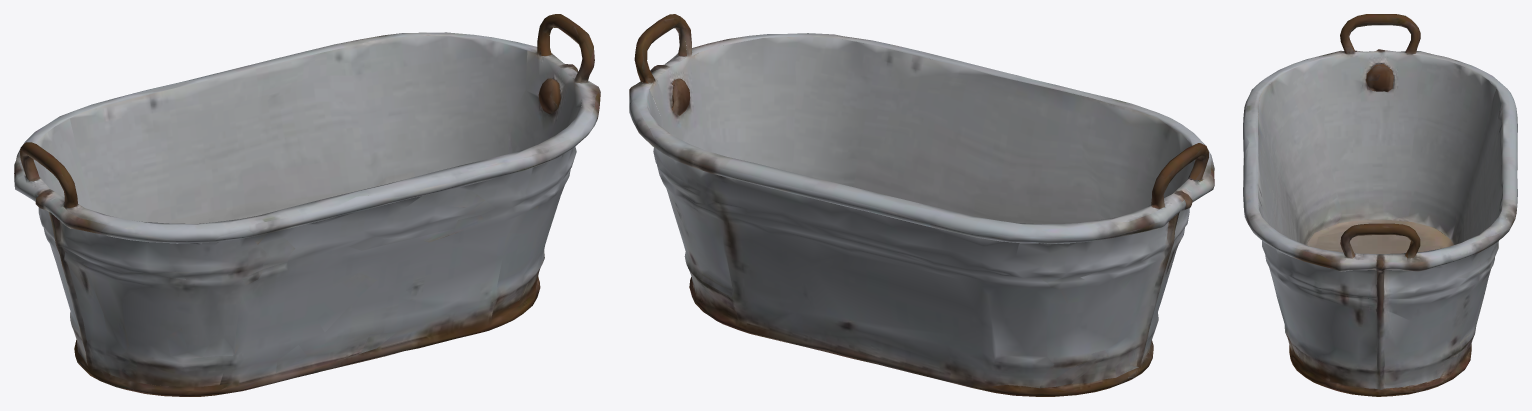
The model's file is tina_lata.glb.
The picture shows the model from 3 angles, left to right: view 1: azimuth 30°, elevation 25°; view 2: azimuth 150°, elevation 25°; view 3: azimuth 270°, elevation 25°; orthographic projection. The views are drawn at different scales.
Parts seen in each view (by area): view 1: geometry_0; view 2: geometry_0; view 3: geometry_0.
Boxes of the visible parts, bbox=[...] form: geometry_0: bbox=[14, 14, 600, 396]; geometry_0: bbox=[629, 14, 1214, 396]; geometry_0: bbox=[1243, 14, 1517, 396].
Size of the model in its own units: 1.2 by 0.5 by 0.65.
Materials: 1 (1 with a texture image).
